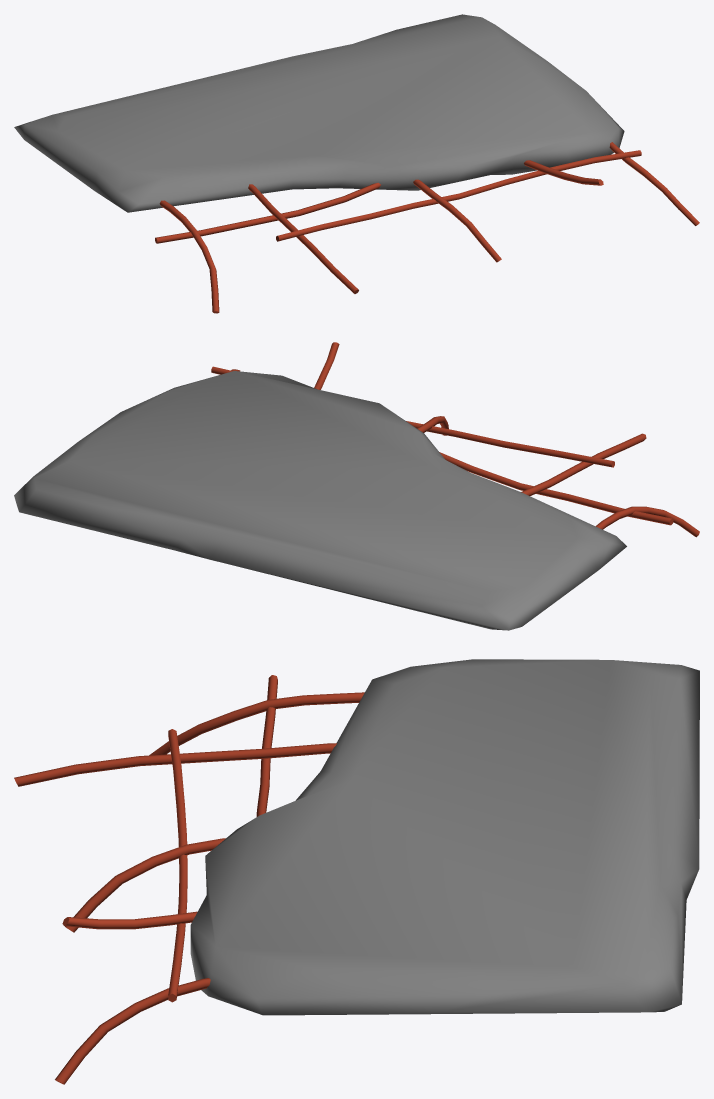
The model's file is SM_floor_05.fbx.
3 renders of one model, top to bottom at view 1: azimuth 30°, elevation 25°; view 2: azimuth 150°, elevation 25°; view 3: azimuth 270°, elevation 25°, orthographic. The views are drawn at different scales.
Visible parts, largest first — view 1: Object031; view 2: Object031; view 3: Object031.
Boxes of the visible parts, x1=… form: Object031: x1=14, y1=14, x2=699, y2=313; Object031: x1=14, y1=342, x2=699, y2=630; Object031: x1=14, y1=659, x2=699, y2=1084.
Bounding box in the file's own units: 199 × 27.9 × 170.
